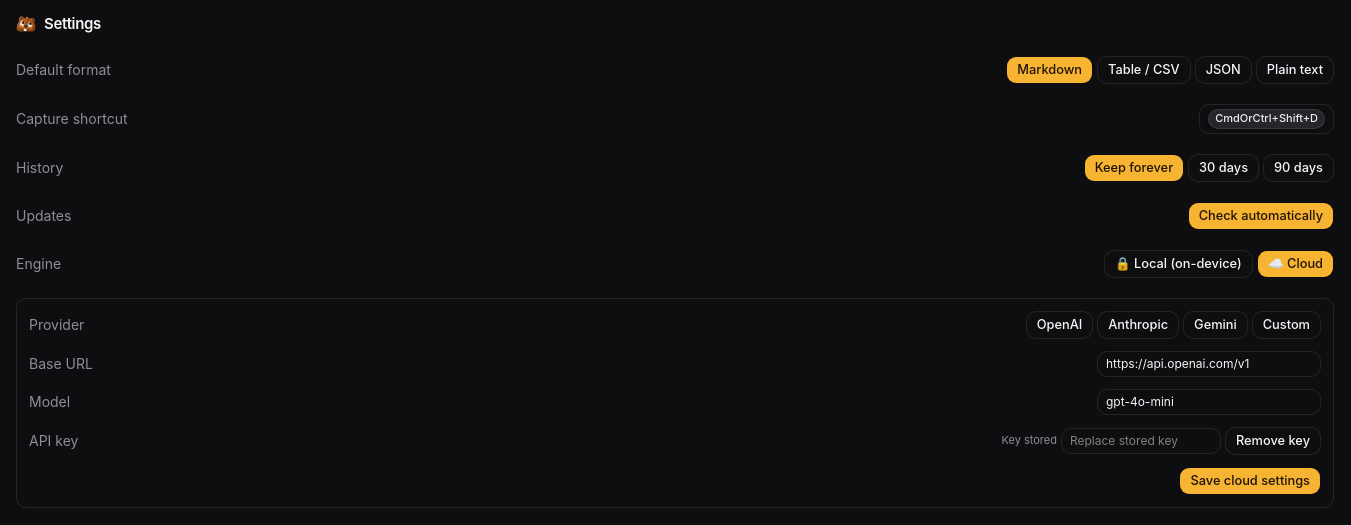
SettingsPanel › removing the key backing an active cloud engine closes the cloud panel
The width and height of the screenshot is (1351, 525).
expect the text "Key stored" is shown: met, box top-left (1002, 432), bottom-right (1057, 449)
expect the field named "Base URL" is shown: met, box top-left (1097, 350), bottom-right (1321, 376)
Click the button "Remove key".
click(1273, 440)  # box top-left (1225, 426), bottom-right (1321, 454)
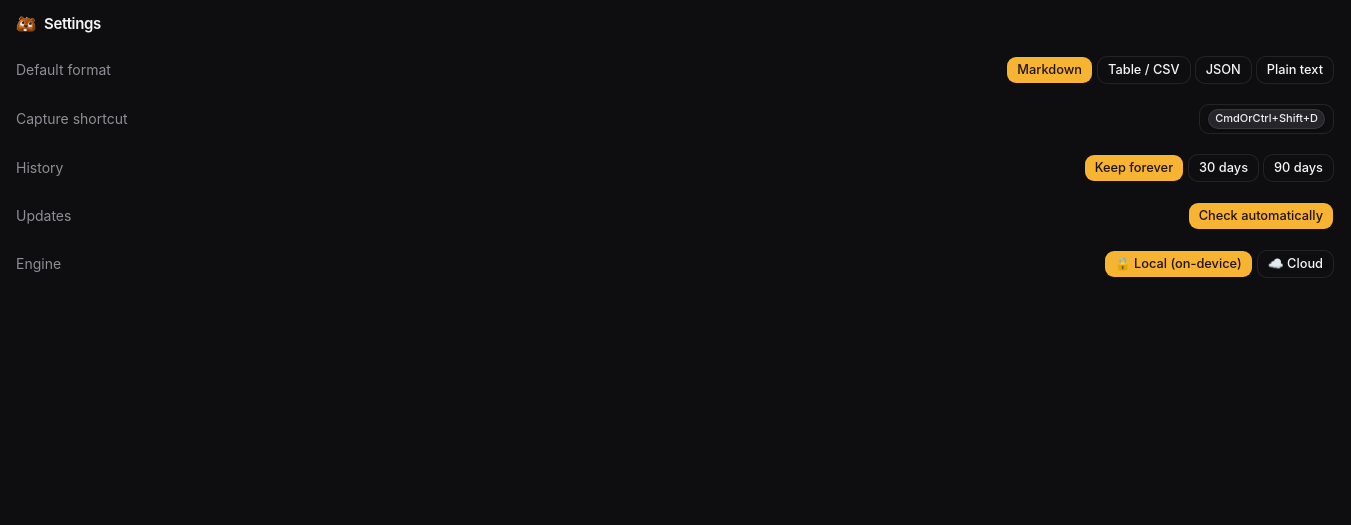
expect the text labelled "Base URL" is gone: met
